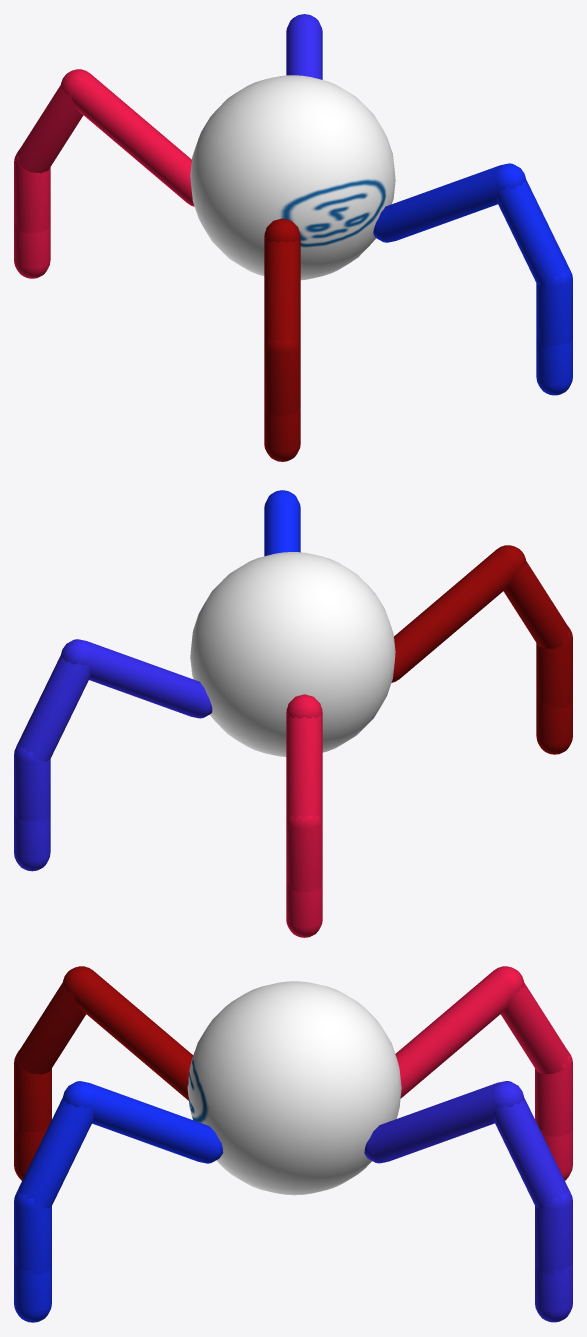
File: spider.fbx
3 views of the same model, one above another, from view 1: azimuth 30°, elevation 25°; view 2: azimuth 150°, elevation 25°; view 3: azimuth 270°, elevation 25° (orthographic). The views are drawn at different scales.
Visible parts, largest first — view 1: -Sphere001, -Capsule023, -Capsule013, -Capsule019, -Capsule014, -Capsule022, -Capsule027, -Capsule028, -Capsule026, -Capsule018, -Capsule015, -Capsule021 (+2 smaller); view 2: -Sphere001, -Capsule024, -Capsule018, -Capsule022, -Capsule016, -Capsule019, -Capsule026, -Capsule025, -Capsule027, -Capsule013, -Capsule017, -Capsule021 (+2 smaller); view 3: -Sphere001, -Capsule024, -Capsule023, -Capsule013, -Capsule018, -Capsule016, -Capsule014, -Capsule019, -Capsule022, -Capsule025, -Capsule028, -Capsule026 (+5 smaller).
Part boxes in pixels (x1,y1,x2,y2): -Sphere001: [190, 75, 395, 280]; -Capsule023: [60, 69, 194, 206]; -Capsule013: [373, 163, 525, 242]; -Capsule019: [264, 231, 300, 345]; -Capsule014: [496, 179, 569, 285]; -Capsule022: [16, 85, 83, 173]; -Capsule027: [264, 339, 300, 416]; -Capsule028: [536, 268, 572, 349]; -Capsule026: [14, 149, 50, 232]; -Capsule018: [286, 14, 322, 79]; -Capsule015: [536, 338, 572, 395]; -Capsule021: [14, 222, 50, 278]; -Sphere001: [190, 552, 395, 756]; -Capsule024: [391, 545, 526, 682]; -Capsule018: [61, 639, 212, 718]; -Capsule022: [286, 708, 322, 821]; -Capsule016: [16, 655, 90, 761]; -Capsule019: [503, 561, 570, 648]; -Capsule026: [286, 815, 322, 892]; -Capsule025: [14, 744, 50, 823]; -Capsule027: [536, 626, 572, 708]; -Capsule013: [264, 490, 300, 556]; -Capsule017: [14, 814, 50, 871]; -Capsule021: [286, 881, 322, 937]; -Sphere001: [187, 981, 401, 1195]; -Capsule024: [62, 966, 193, 1100]; -Capsule023: [395, 966, 524, 1098]; -Capsule013: [63, 1081, 223, 1163]; -Capsule018: [364, 1081, 523, 1163]; -Capsule016: [493, 1097, 569, 1208]; -Capsule014: [16, 1097, 93, 1208]; -Capsule019: [16, 982, 86, 1074]; -Capsule022: [500, 982, 570, 1074]; -Capsule025: [535, 1190, 572, 1274]; -Capsule028: [14, 1190, 51, 1274]; -Capsule026: [535, 1050, 572, 1136].
Bounding box in the file's own units: 65.98 × 101 × 51.94.
Materials: 5 (1 with a texture image).
